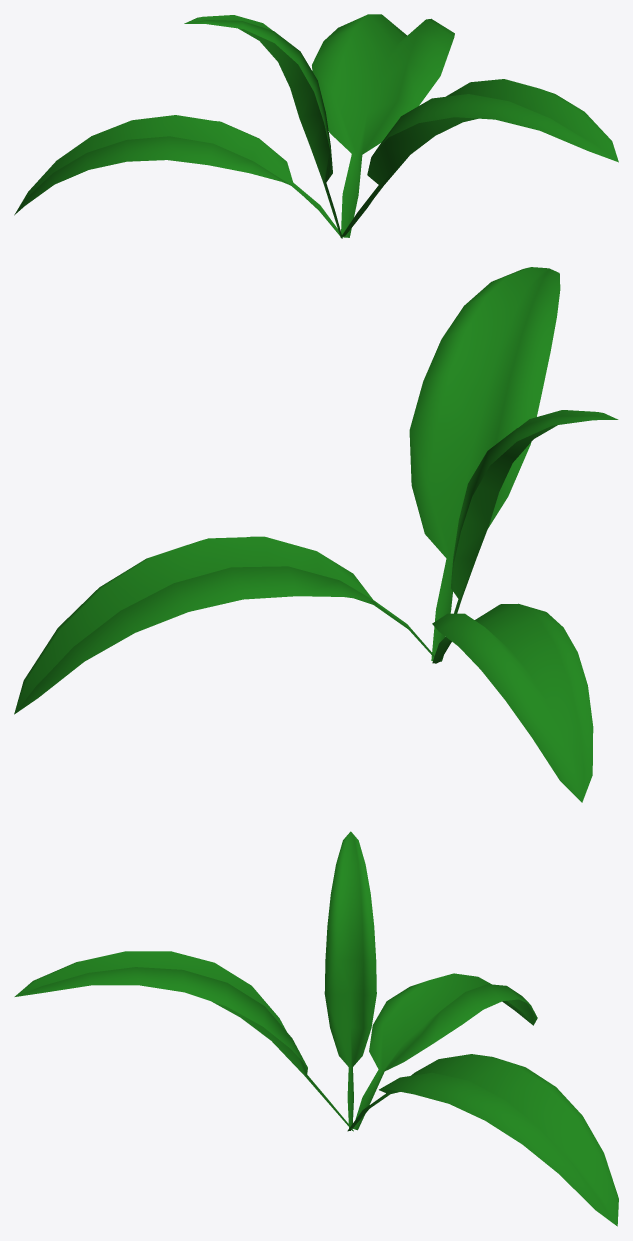
File: Plant_005.FBX
3 renders of one model, top to bottom at view 1: azimuth 30°, elevation 25°; view 2: azimuth 150°, elevation 25°; view 3: azimuth 270°, elevation 25°, orthographic. The views are drawn at different scales.
Parts seen in each view (by area): view 1: Plant_005; view 2: Plant_005; view 3: Plant_005.
Boxes of the visible parts, x1=… form: Plant_005: x1=14, y1=14, x2=618, y2=238; Plant_005: x1=14, y1=267, x2=618, y2=802; Plant_005: x1=14, y1=831, x2=618, y2=1226.
Bounding box in the file's own units: 85.35 × 44.83 × 107.
